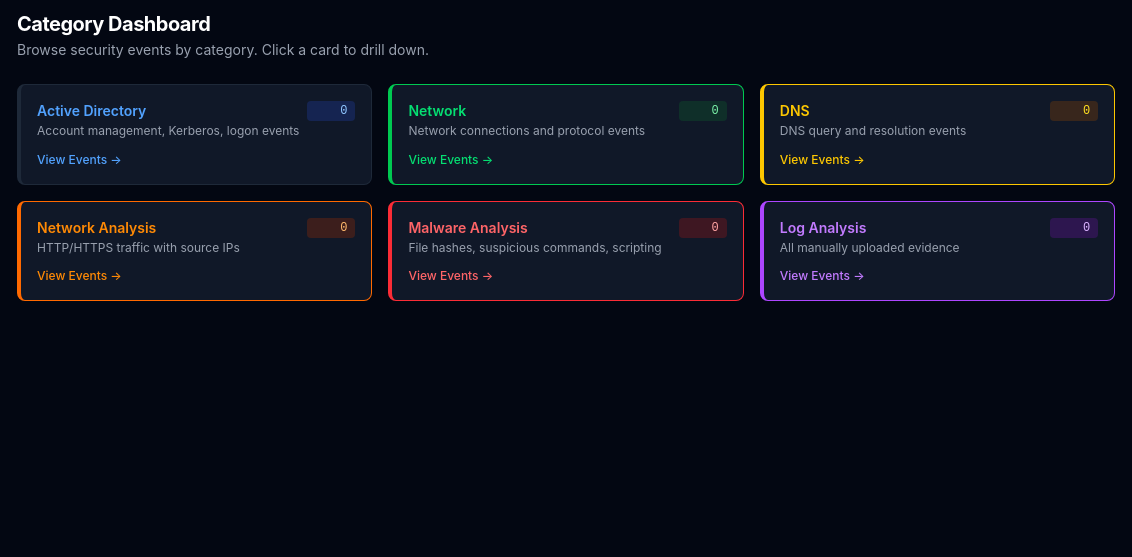
Scenario: CategoryDashboardPage › empty state › shows "No events found" text in the empty state
What coordinates should you click on to do the following:
click the heading "Active Directory"
I would click on:
 (92, 110)
Its box is [37, 102, 146, 119].
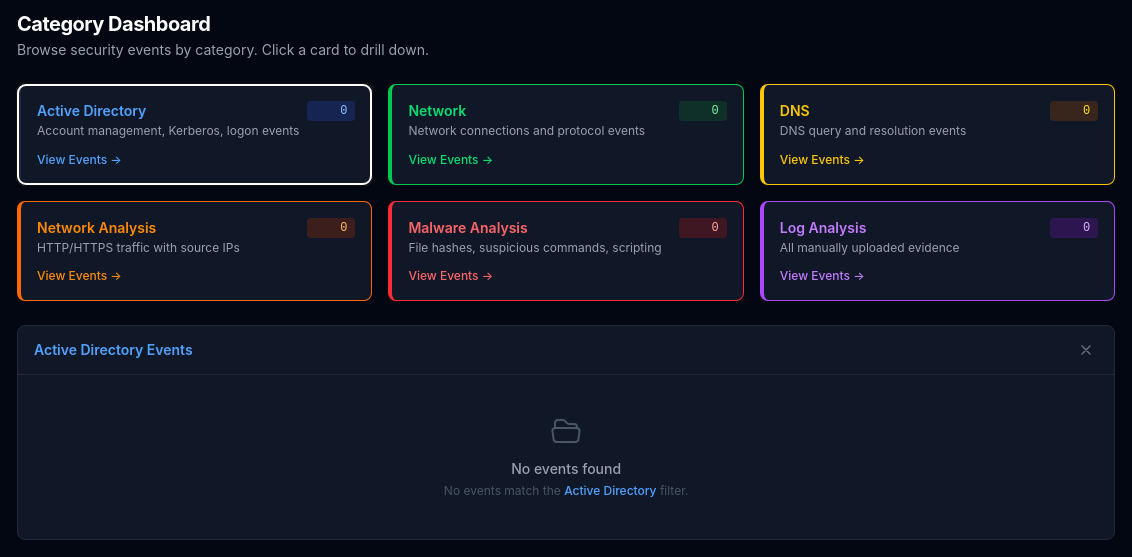
Now the text "No events found" is shown, box [511, 460, 621, 477]
